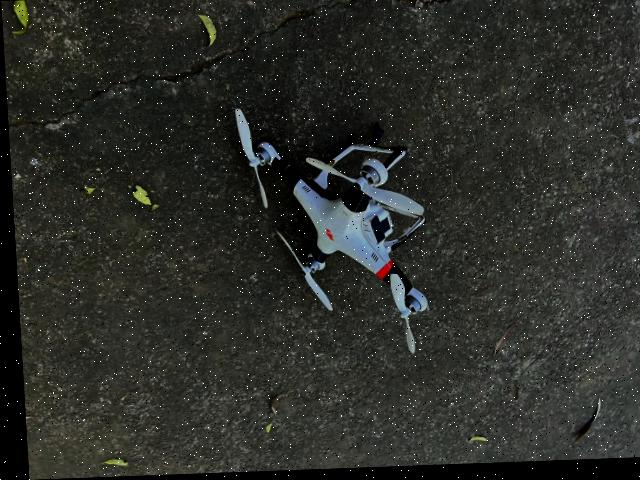drone: (233, 127, 441, 342)
